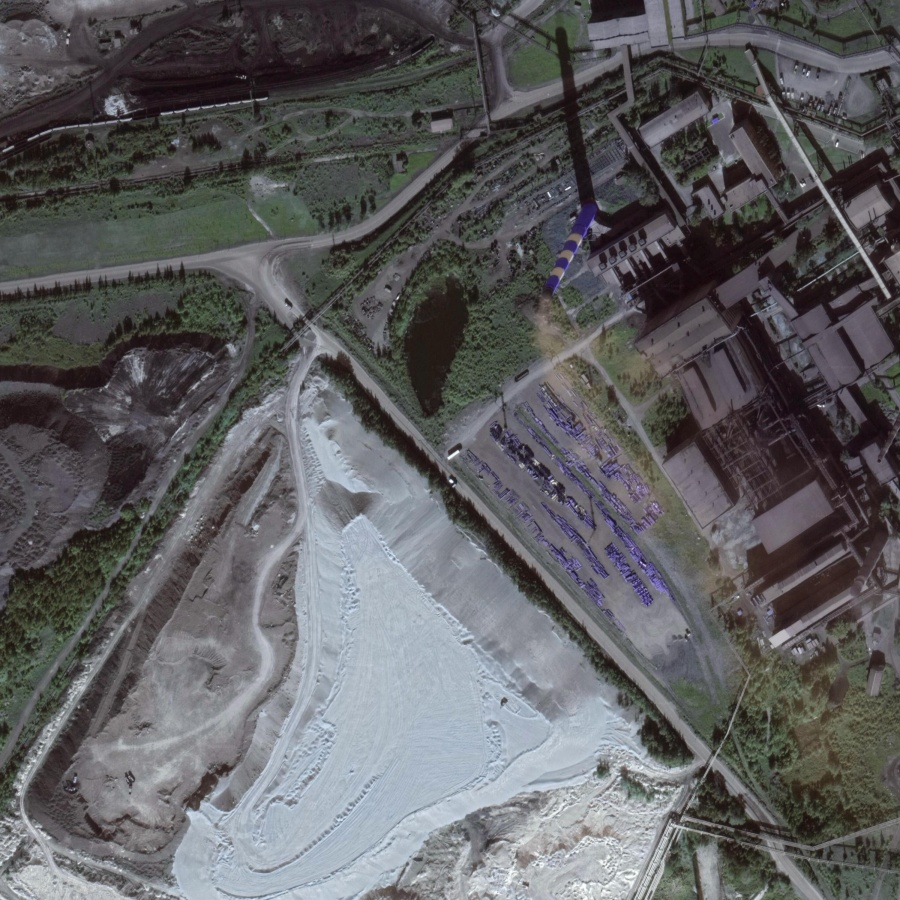PowerPlant: (516, 31, 894, 511)
